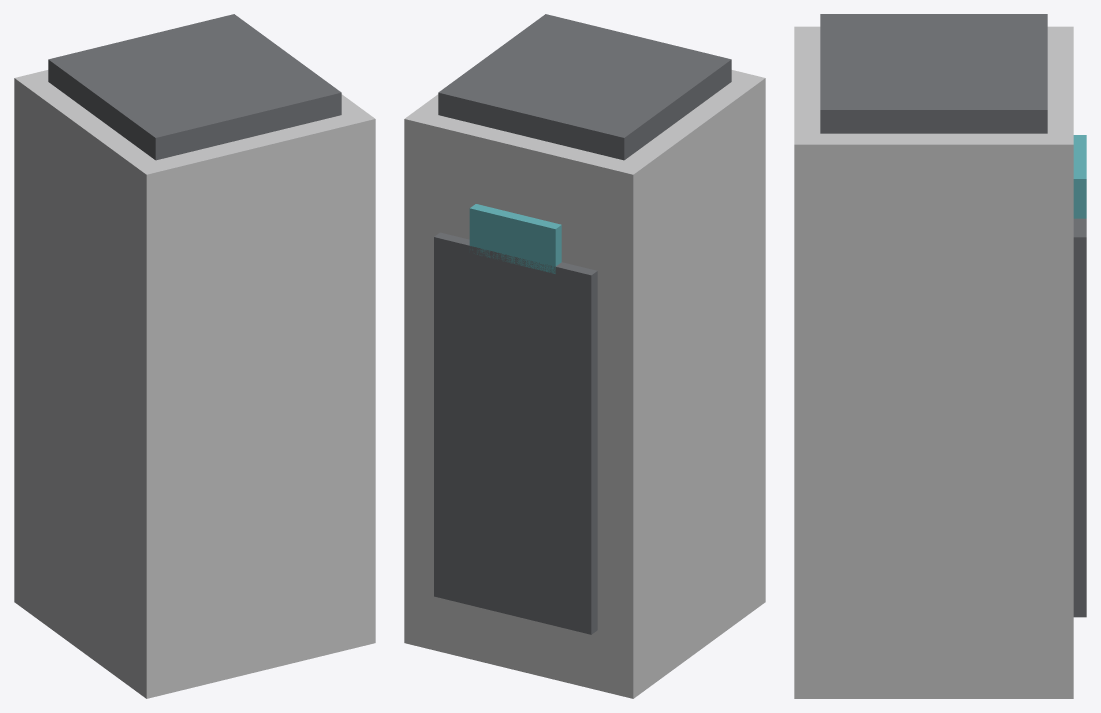
Rendered from eld_purificador.glb.
3 renders of one model, left to right at view 1: azimuth 30°, elevation 25°; view 2: azimuth 150°, elevation 25°; view 3: azimuth 270°, elevation 25°, orthographic. The views are drawn at different scales.
Visible parts, largest first — view 1: ELD_PURIFICADOR_v01; view 2: ELD_PURIFICADOR_v01; view 3: ELD_PURIFICADOR_v01.
Boxes of the visible parts, x1,y1,x2,y2 form: ELD_PURIFICADOR_v01: (14,14,375,698); ELD_PURIFICADOR_v01: (404,14,765,698); ELD_PURIFICADOR_v01: (794,14,1086,698).
Size of the model in its own units: 0.32 by 0.73 by 0.335.
